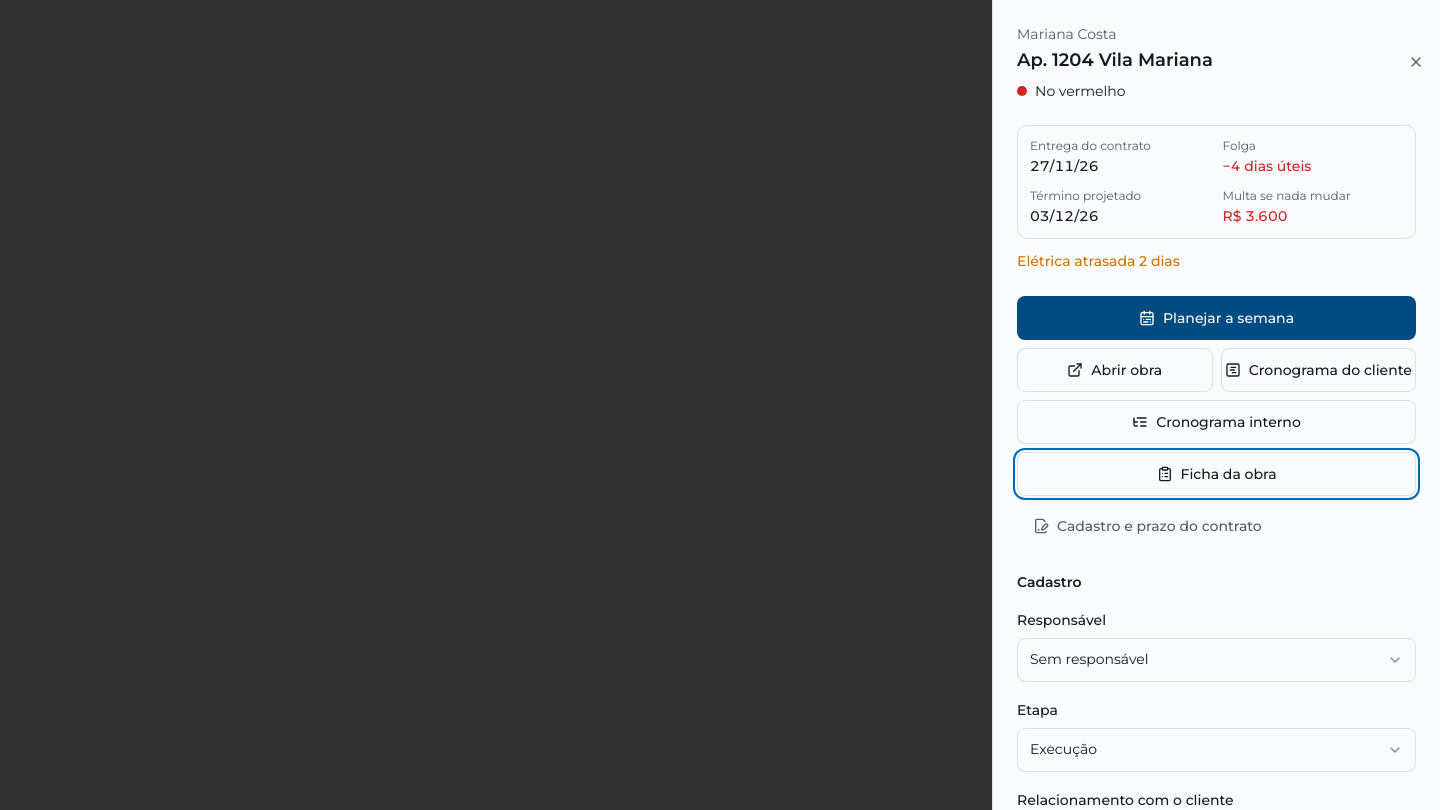
ObraDrawer › 'Ficha da obra' abre a ficha desta obra por cima da gaveta
Step 1. Click the button "Ficha da obra" → (1216, 474), box [1017, 452, 1416, 496]
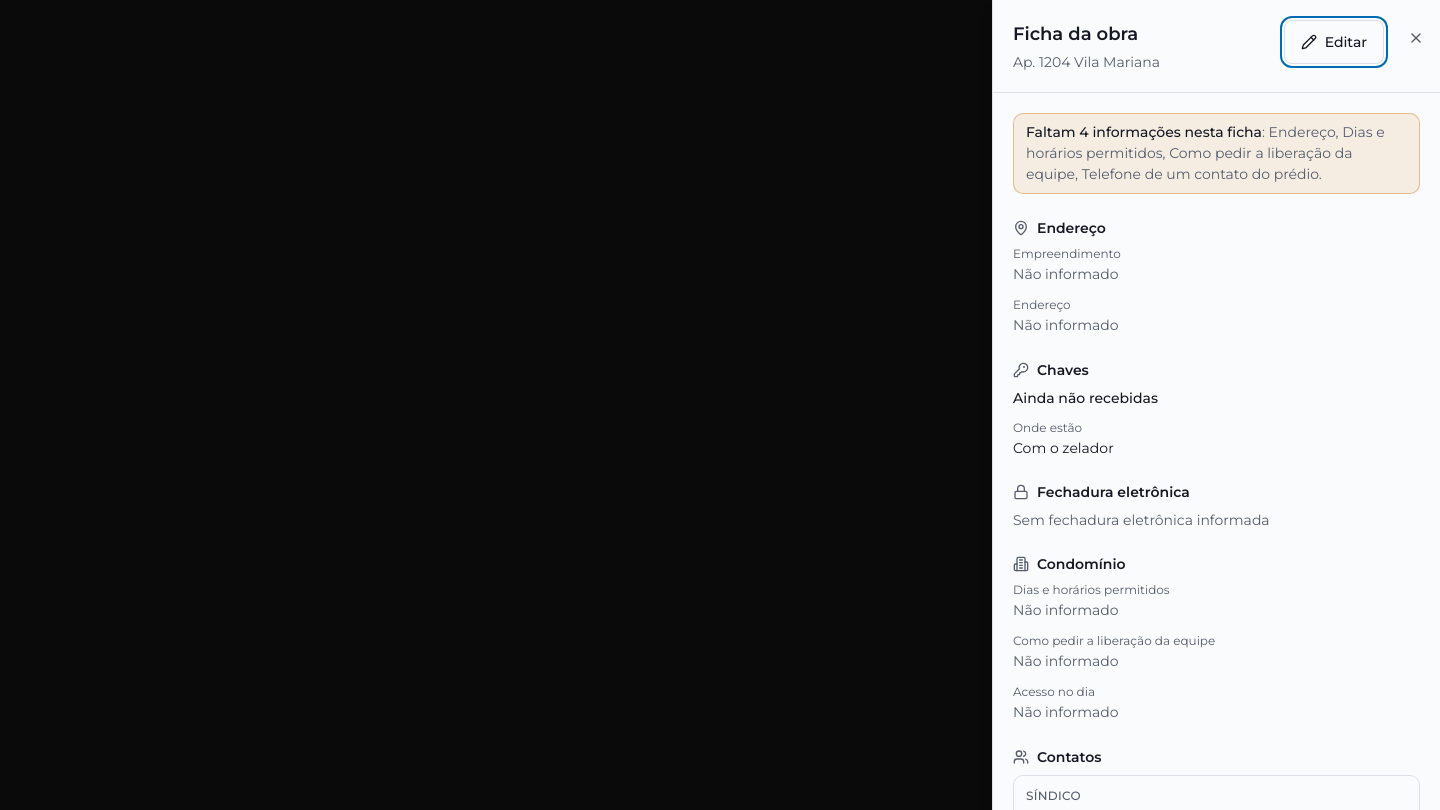
Expected: the text "Ap. 1204 Vila Mariana" is shown, [1013, 52, 1160, 72]
Expected: the text "Com o zelador" is shown, [1013, 439, 1114, 457]
